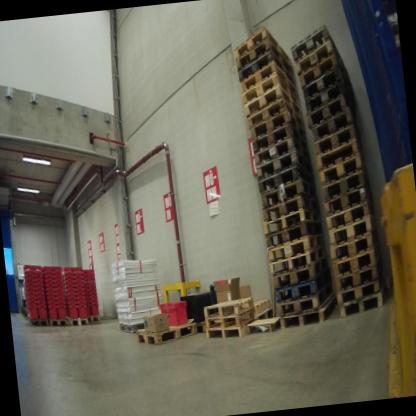pallet: (271, 289, 344, 332), (231, 49, 299, 89), (272, 269, 336, 306), (130, 313, 197, 348), (241, 70, 302, 108), (233, 34, 298, 68), (230, 23, 294, 57), (276, 283, 341, 316), (269, 255, 328, 291), (265, 245, 328, 278), (265, 234, 329, 266), (247, 108, 308, 141), (241, 80, 300, 113), (290, 18, 333, 62), (259, 203, 322, 233), (255, 145, 314, 177), (303, 94, 355, 130), (321, 185, 373, 221), (259, 193, 321, 223), (254, 164, 317, 193), (258, 178, 316, 209), (243, 99, 304, 128), (306, 110, 356, 145), (325, 199, 374, 233), (316, 153, 366, 186), (261, 224, 324, 250), (251, 135, 307, 164), (296, 65, 345, 98), (310, 124, 359, 157), (318, 170, 367, 203), (250, 122, 307, 150), (331, 293, 388, 321), (240, 60, 297, 87), (311, 140, 361, 170), (296, 37, 336, 74), (200, 302, 259, 327), (203, 292, 257, 319), (333, 264, 381, 294), (326, 232, 377, 260), (299, 79, 348, 108), (327, 248, 375, 277), (332, 277, 383, 304), (325, 216, 374, 244), (203, 322, 257, 345), (294, 56, 340, 83), (118, 314, 157, 334), (252, 310, 280, 333), (26, 313, 50, 331), (68, 312, 89, 330), (256, 304, 274, 321), (49, 314, 70, 328), (87, 313, 103, 327)
small_load_carrier: (151, 298, 187, 327), (35, 303, 49, 322), (26, 303, 39, 322), (56, 303, 69, 321), (67, 303, 79, 319), (77, 302, 89, 318), (46, 304, 58, 318), (90, 300, 100, 315), (85, 302, 91, 315)
